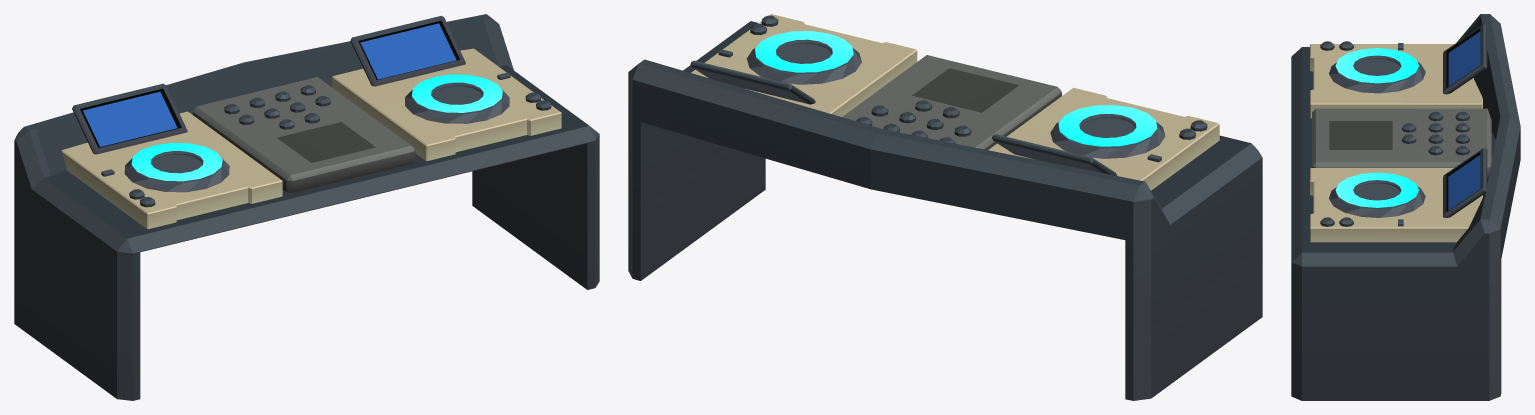
3 renders of one model, left to right at view 1: azimuth 30°, elevation 25°; view 2: azimuth 150°, elevation 25°; view 3: azimuth 270°, elevation 25°, orthographic. The views are drawn at different scales.
Parts seen in each view (by area): view 1: Cube.009; view 2: Cube.009; view 3: Cube.009.
Part boxes in pixels (<box>): Cube.009: <box>14,14,599,400</box>; Cube.009: <box>628,14,1262,400</box>; Cube.009: <box>1291,14,1520,400</box>.
Size of the model in its own units: 490 by 200 by 221.
